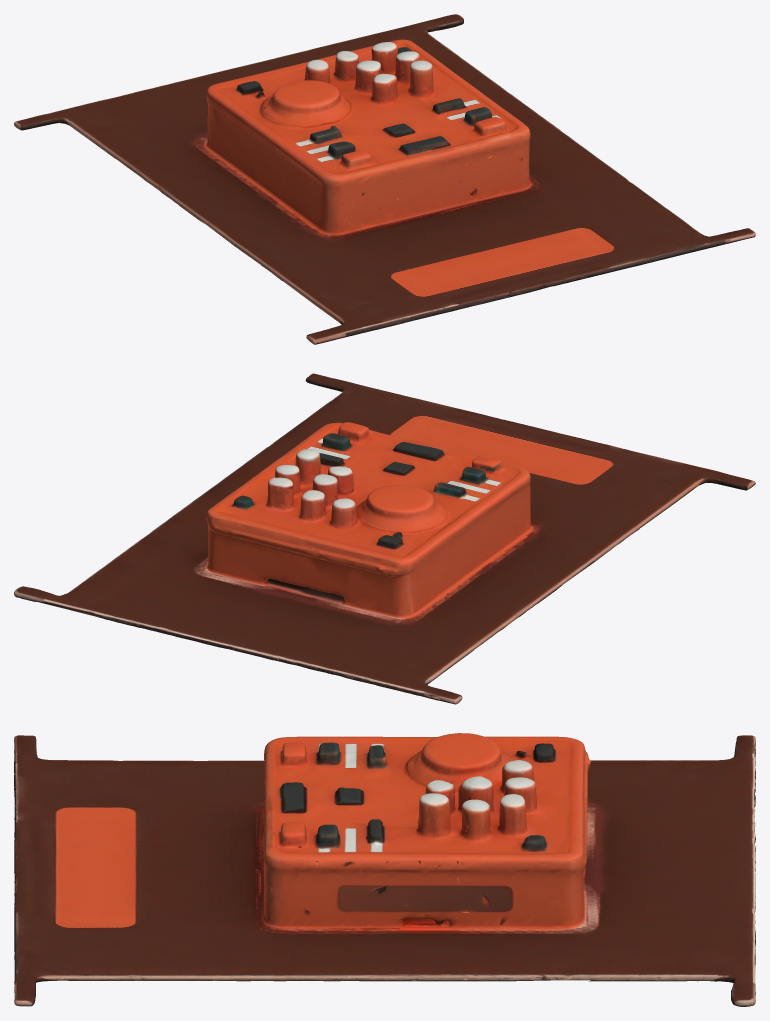
Rendered from ranker.glb.
The picture shows the model from 3 angles, top to bottom: view 1: azimuth 30°, elevation 25°; view 2: azimuth 150°, elevation 25°; view 3: azimuth 270°, elevation 25°; orthographic projection. The views are drawn at different scales.
Bounding box in the file's own units: 1.71 × 0.3511 × 2.
Materials: 1 (1 with a texture image).
